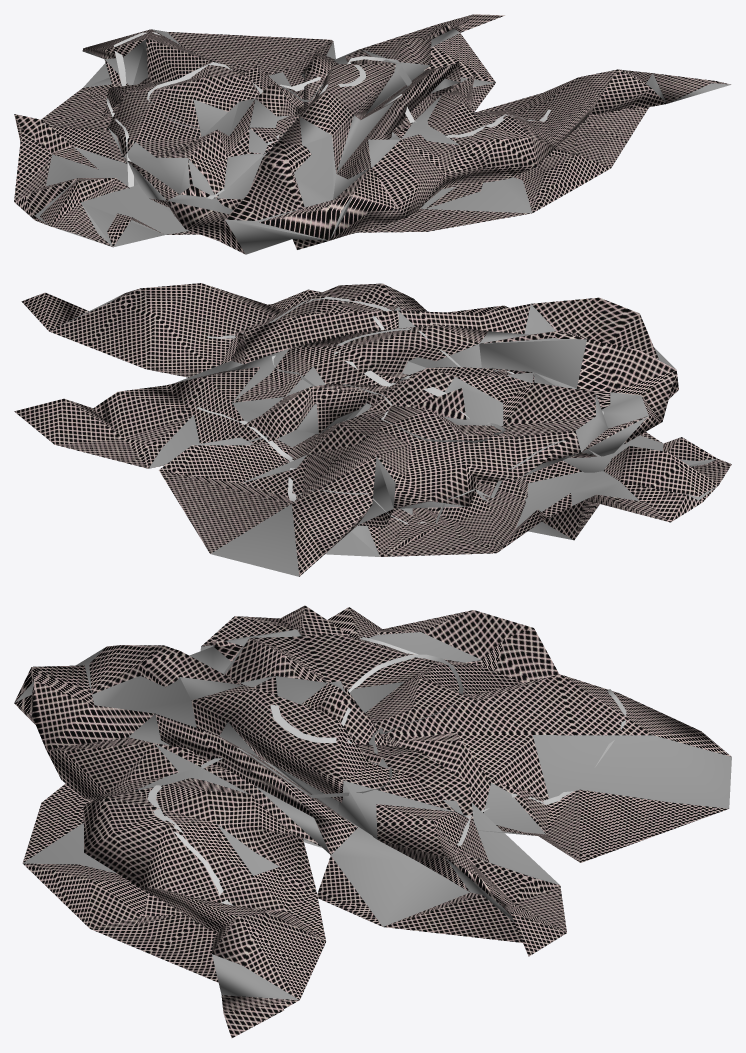
File: si_fishnet_b.DAE
3 views of the same model, one above another, from view 1: azimuth 30°, elevation 25°; view 2: azimuth 150°, elevation 25°; view 3: azimuth 270°, elevation 25° (orthographic). The views are drawn at different scales.
Parts seen in each view (by area): view 1: si_fishnet_b120, si_fishnet_b30; view 2: si_fishnet_b120, si_fishnet_b30; view 3: si_fishnet_b120, si_fishnet_b30.
Part boxes in pixels (left/top/right/bottom): si_fishnet_b120: left=14, top=14, right=730, bottom=254; si_fishnet_b30: left=35, top=28, right=730, bottom=254; si_fishnet_b120: left=14, top=283, right=731, bottom=576; si_fishnet_b30: left=53, top=294, right=716, bottom=576; si_fishnet_b120: left=14, top=605, right=731, bottom=1038; si_fishnet_b30: left=14, top=629, right=731, bottom=1000.
Size of the model in its own units: 215 by 158 by 25.66.
